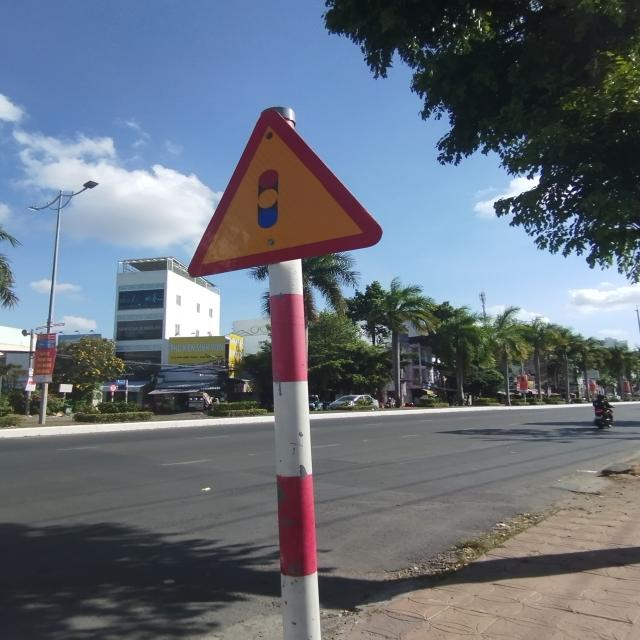Duong_Co_Go_Giam_Toc: (188, 110, 383, 278)
